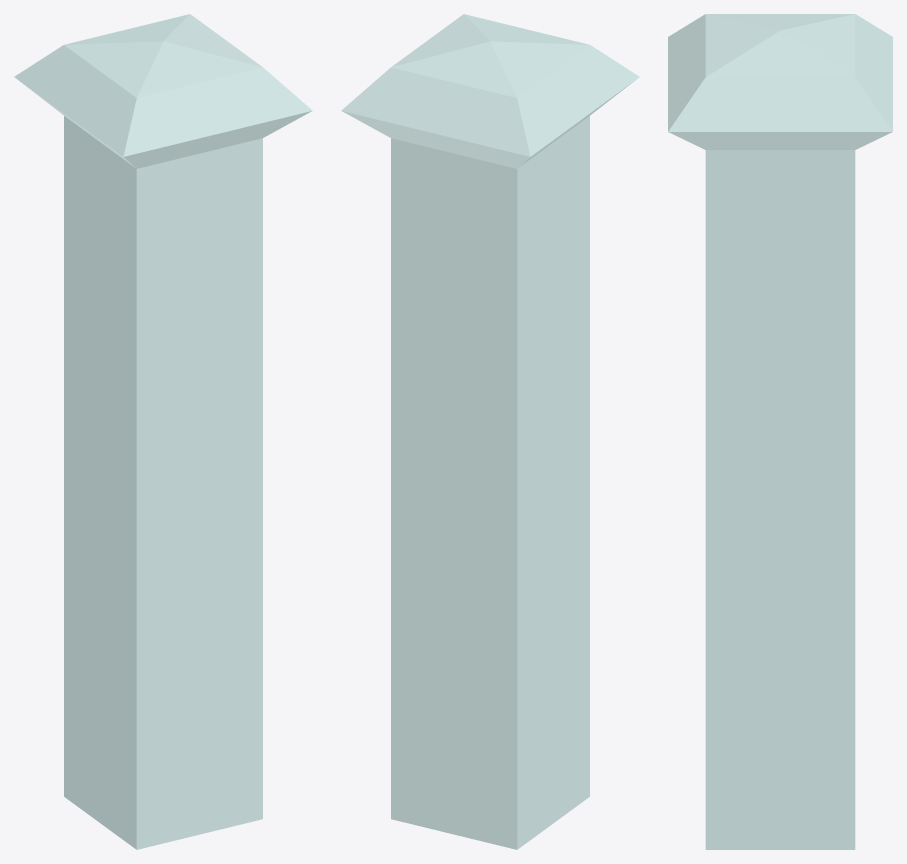
File: tmg-waldo_envir_fence-01_end.glb
The picture shows the model from 3 angles, left to right: view 1: azimuth 30°, elevation 25°; view 2: azimuth 150°, elevation 25°; view 3: azimuth 270°, elevation 25°; orthographic projection. The views are drawn at different scales.
Visible parts, largest first — view 1: envir_fence-01_end; view 2: envir_fence-01_end; view 3: envir_fence-01_end.
Part boxes in pixels (left/top/right/bottom): envir_fence-01_end: left=14, top=14, right=312, bottom=849; envir_fence-01_end: left=341, top=14, right=639, bottom=849; envir_fence-01_end: left=668, top=14, right=892, bottom=849.
Size of the model in its own units: 0.3469 by 1.34 by 0.3469.
1 material, 1 textured.
